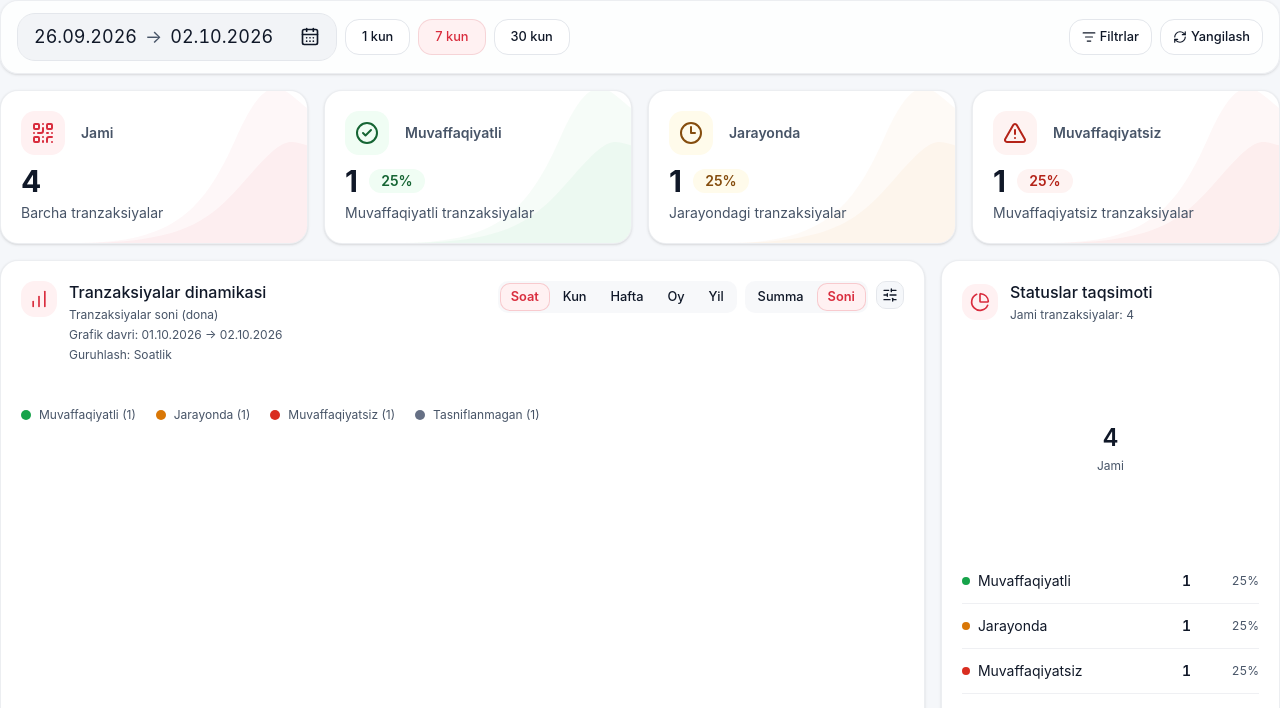
Scenario: keeps real query/cache identities, request parameters, route, auth session and terminal drafts on locale-only changes
The image size is (1280, 708).
Click the button "Filtrlar".
click(1110, 37)  # box [1069, 19, 1152, 55]
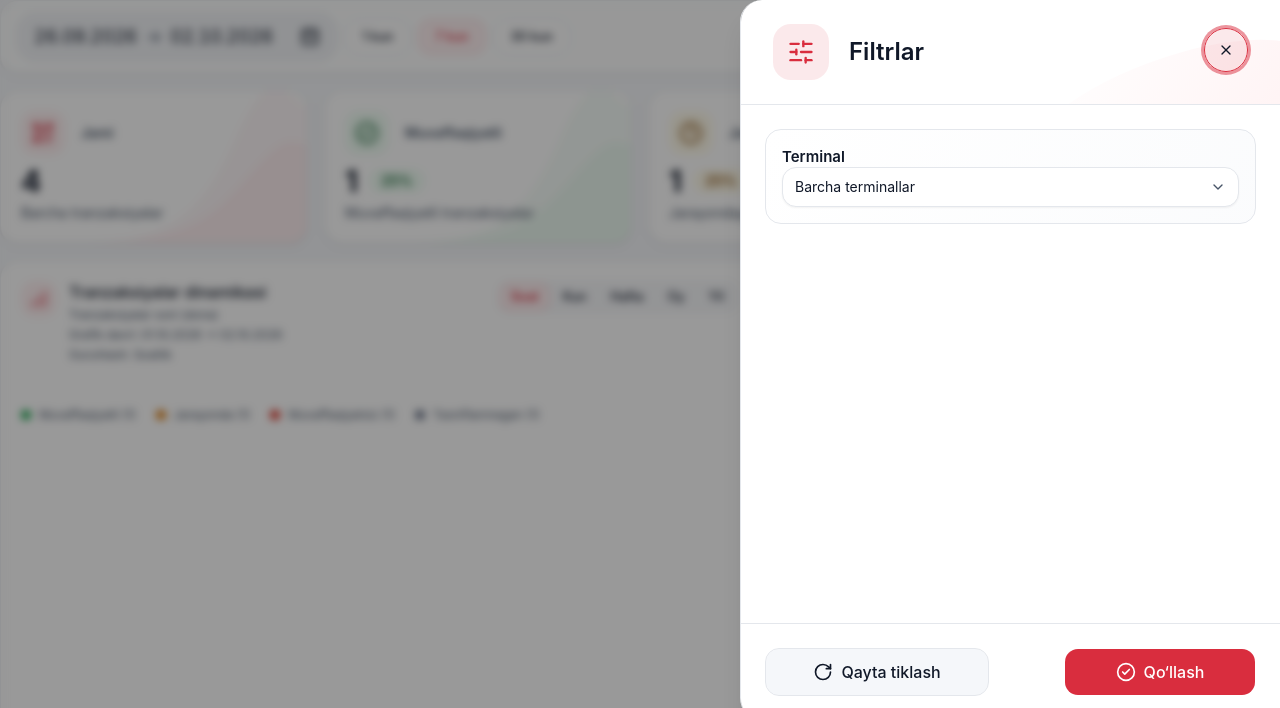
Click the dropdown labelled "Barcha terminallar".
click(855, 187)  # box [782, 167, 1239, 207]
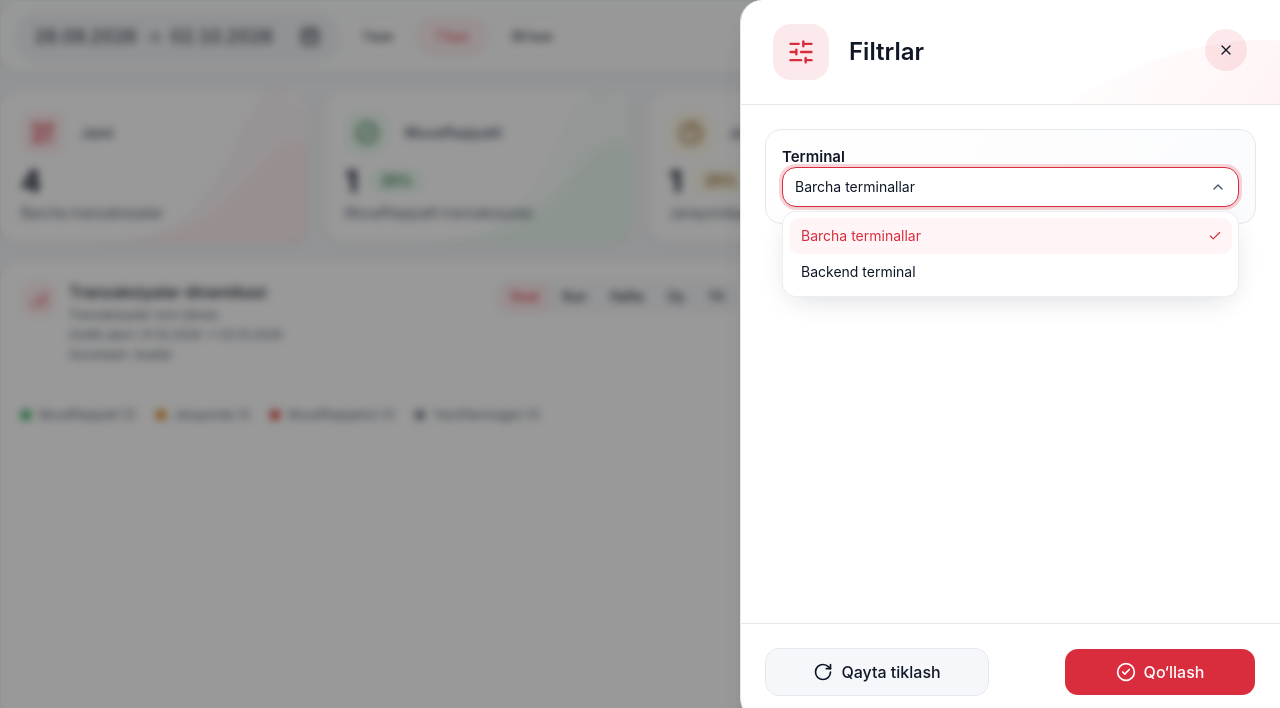
Click the option "Backend terminal".
click(858, 272)  # box [801, 263, 916, 280]
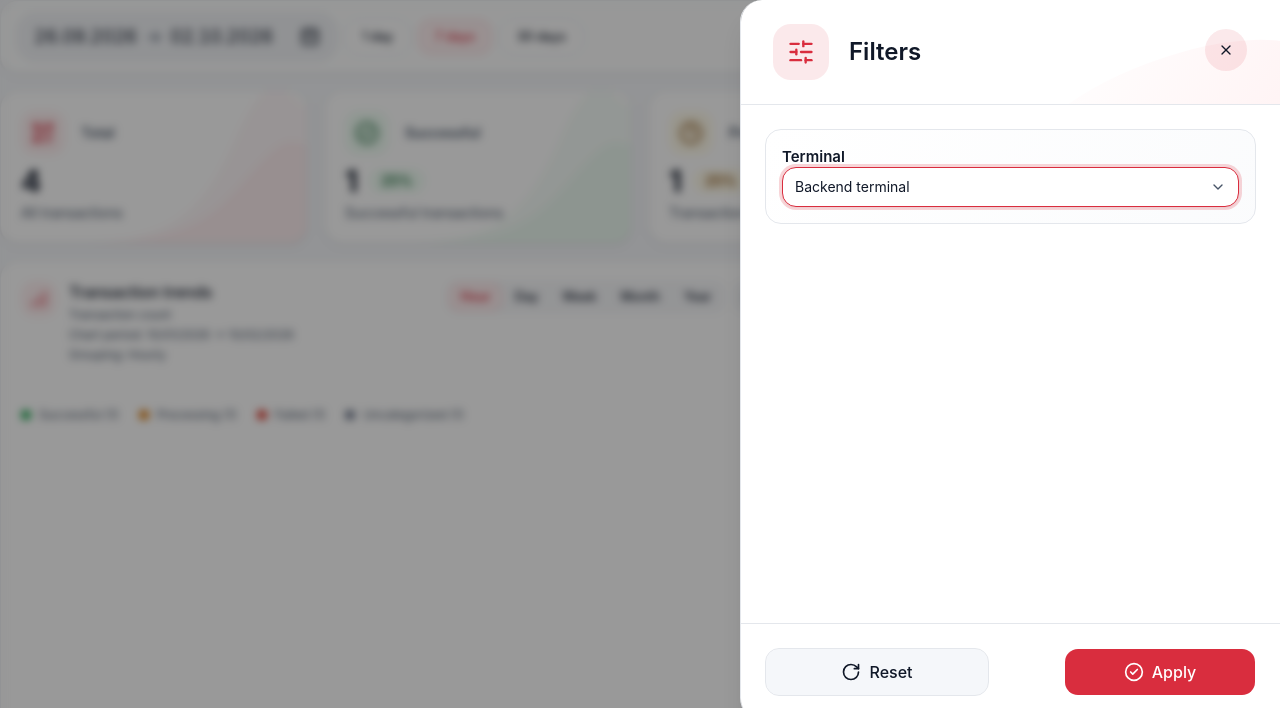
Result: the dropdown labelled "Backend terminal" is shown at [782, 167, 1239, 207]
